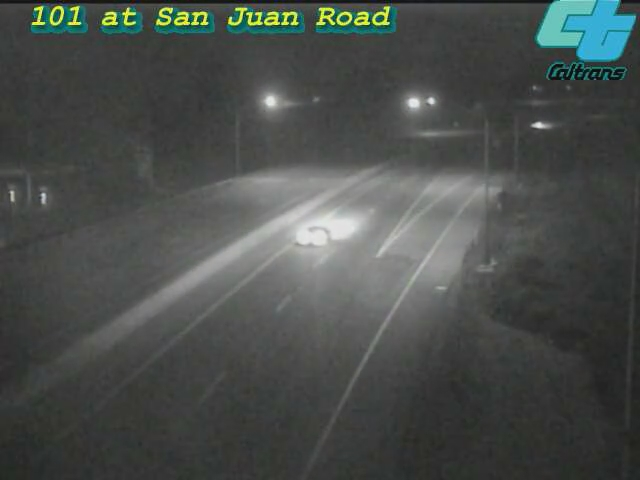vehicle: (266, 199, 346, 279), (515, 101, 565, 151)
